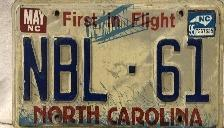1: (185, 36, 212, 104)
6: (154, 35, 182, 104)
B: (52, 36, 81, 103)
L: (81, 36, 111, 103)
N: (20, 35, 52, 103)
